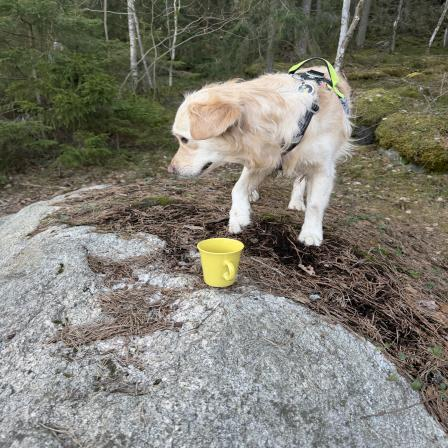yellow_cup: (196, 236, 244, 288)
